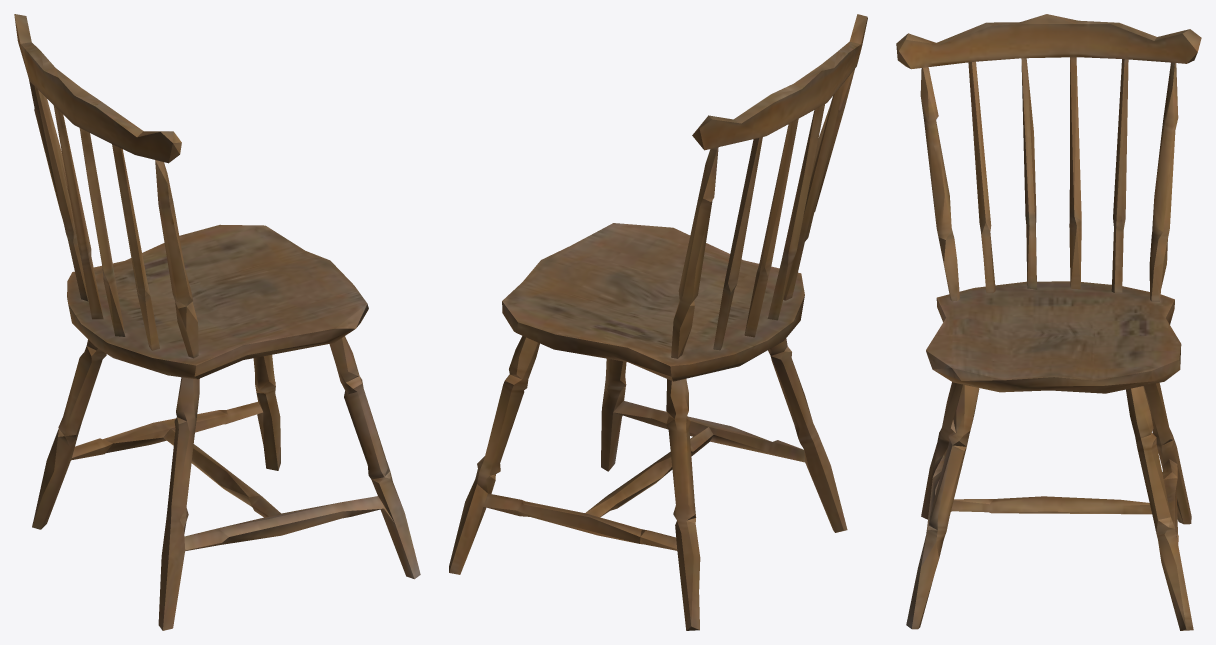
File: chair-wooden-b.lod1.glb
The picture shows the model from 3 angles, left to right: view 1: azimuth 30°, elevation 25°; view 2: azimuth 150°, elevation 25°; view 3: azimuth 270°, elevation 25°; orthographic projection. The views are drawn at different scales.
Parts seen in each view (by area): view 1: chair-wooden-b; view 2: chair-wooden-b; view 3: chair-wooden-b.
Part boxes in pixels (bbox=[...]): chair-wooden-b: bbox=[14, 14, 420, 630]; chair-wooden-b: bbox=[449, 14, 867, 630]; chair-wooden-b: bbox=[896, 14, 1201, 630].
Size of the model in its own units: 0.5209 by 0.8674 by 0.495.
1 material, 1 textured.
